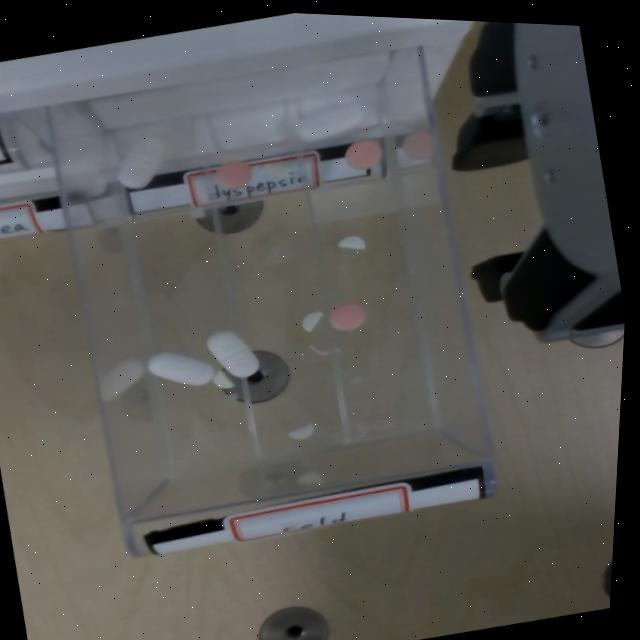amoxicle_tab: (297, 103, 365, 140), (116, 136, 164, 187), (207, 329, 258, 377), (146, 351, 215, 385)
panstar_tab: (344, 139, 382, 168), (328, 302, 365, 330), (215, 160, 250, 187)
sudafed_tab: (287, 422, 314, 439), (301, 311, 322, 331), (212, 369, 233, 388), (337, 235, 364, 249)
